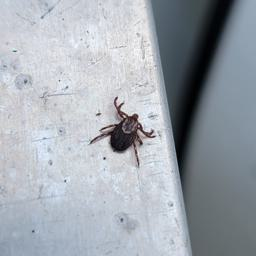Dermacentor variabilis: (89, 96, 158, 167)
